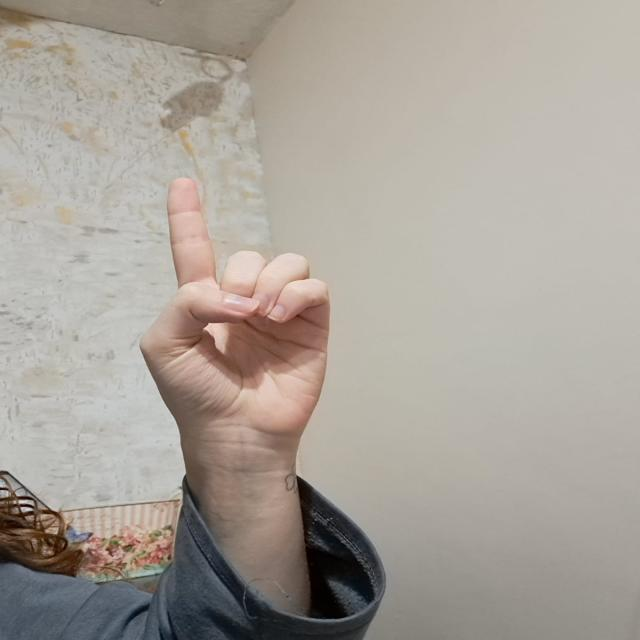D2: (122, 154, 338, 454)
